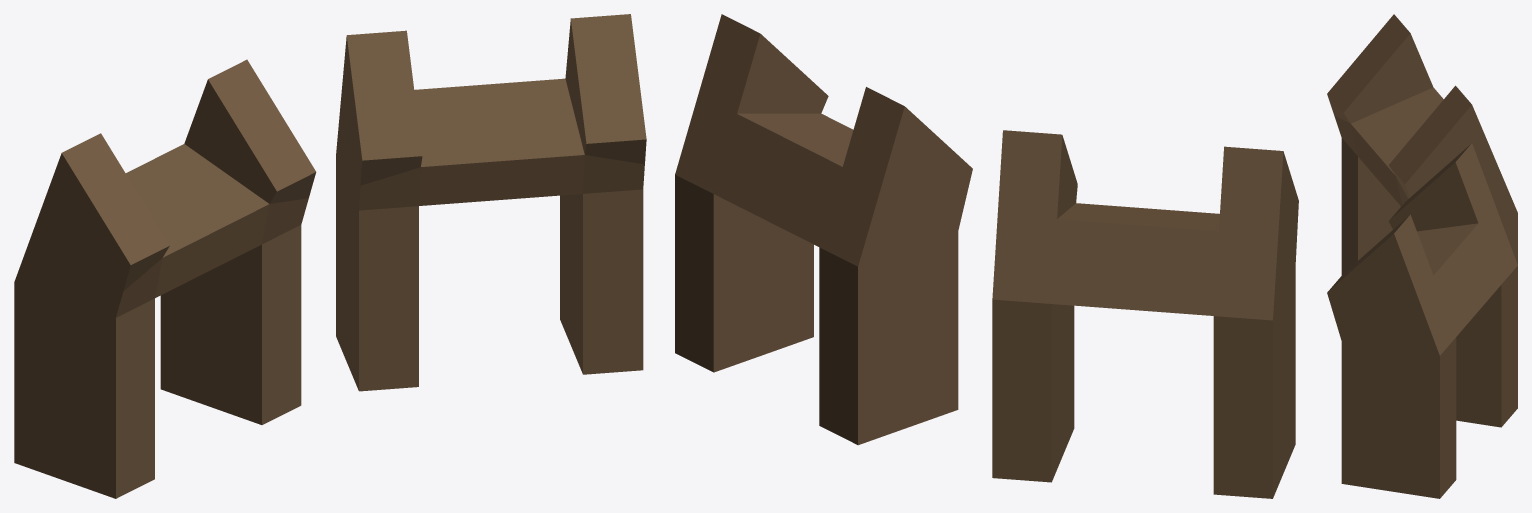
The model's file is javelin_thrower_holder(multishot +1).fbx.
3 renders of one model, left to right at view 1: azimuth 30°, elevation 25°; view 2: azimuth 150°, elevation 25°; view 3: azimuth 270°, elevation 25°, orthographic. The views are drawn at different scales.
Visible parts, largest first — view 1: holder.001; view 2: holder.001; view 3: holder.001.
Part boxes in pixels (<box>): holder.001: <box>14,14,646,498</box>; holder.001: <box>675,14,1298,498</box>; holder.001: <box>1327,14,1517,498</box>.
Size of the model in its own units: 36.53 by 18.83 by 12.61.
1 material, 1 textured.
